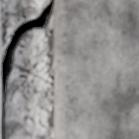brick: (52, 0, 138, 138), (0, 83, 1, 114)
crack: (0, 1, 51, 138)
